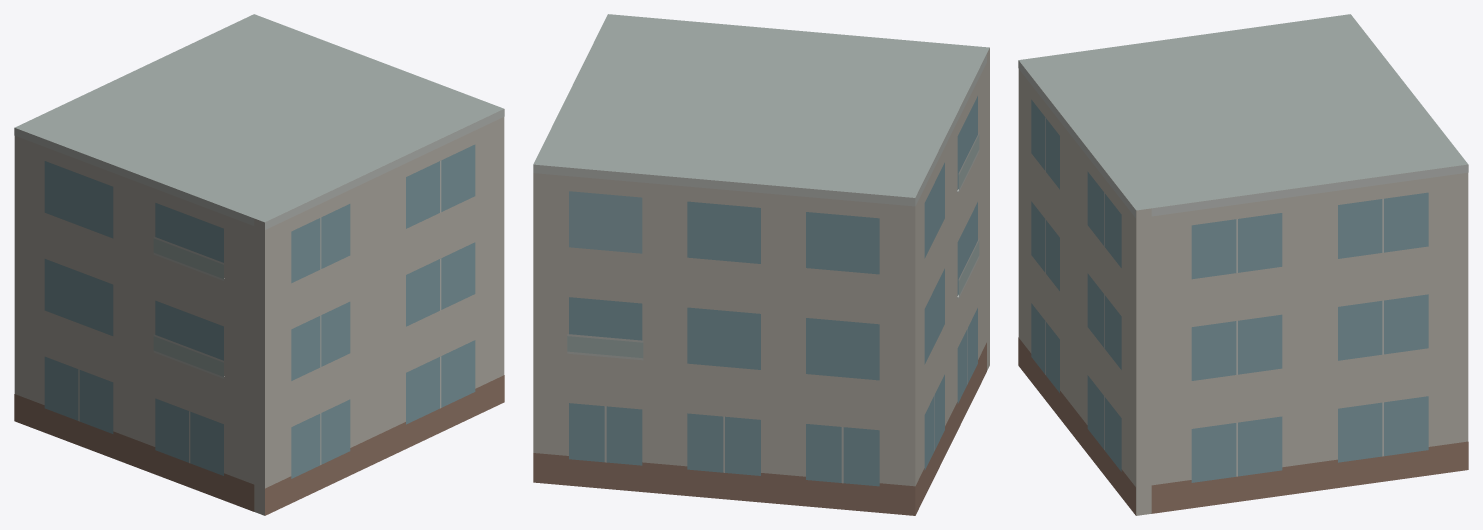
Rendered from survey-upis-32940614.glb.
The picture shows the model from 3 angles, left to right: view 1: azimuth 30°, elevation 25°; view 2: azimuth 150°, elevation 25°; view 3: azimuth 270°, elevation 25°; orthographic projection. The views are drawn at different scales.
Visible parts, largest first — view 1: survey-upis-32940614.tmp; view 2: survey-upis-32940614.tmp; view 3: survey-upis-32940614.tmp.
Part boxes in pixels (x1,y1,x2,y2): survey-upis-32940614.tmp: (14, 14, 504, 515); survey-upis-32940614.tmp: (533, 14, 989, 515); survey-upis-32940614.tmp: (1018, 14, 1468, 515).
Bounding box in the file's own units: 12.63 × 9.15 × 12.23.
